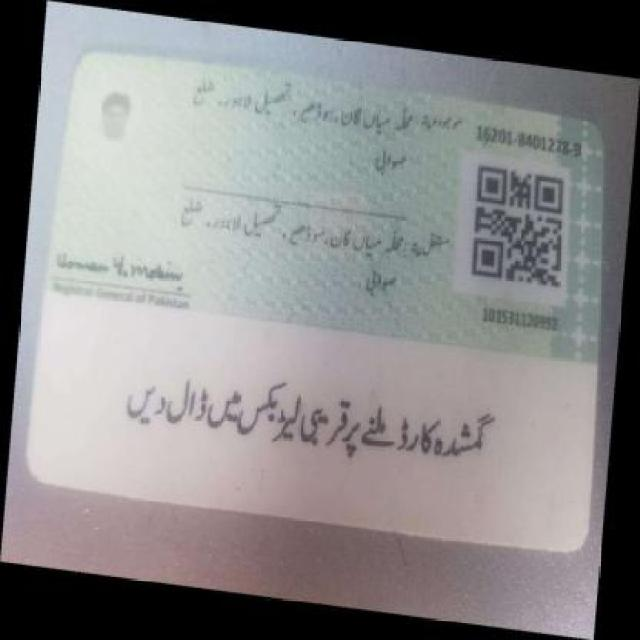Back: (37, 52, 594, 560)
